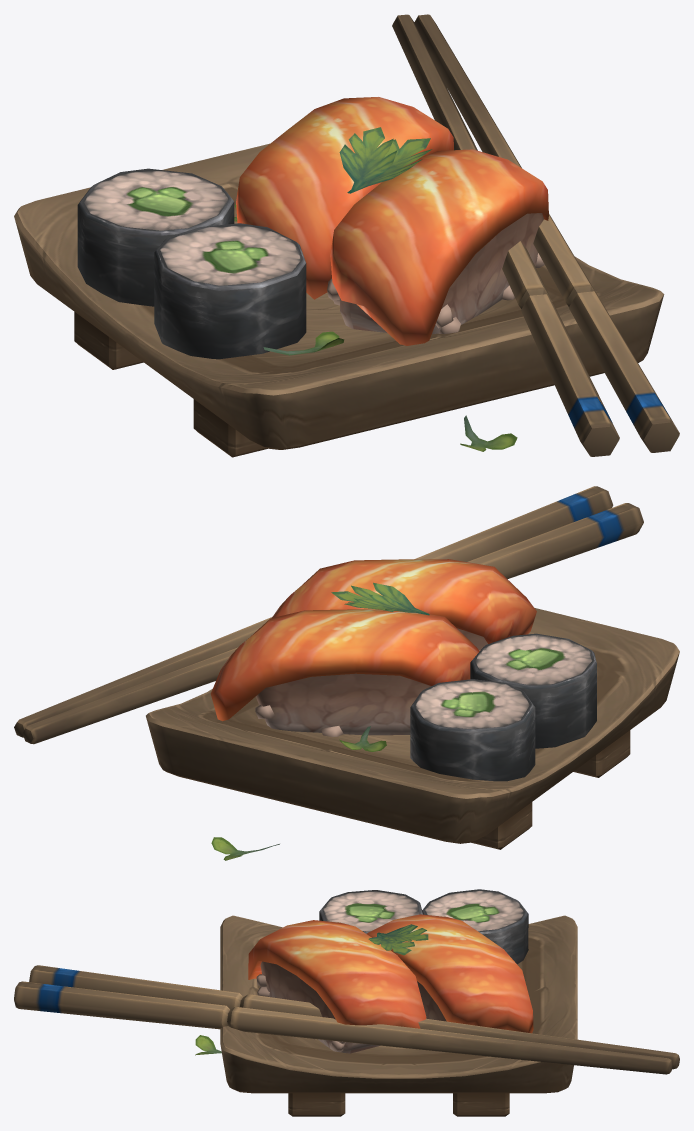
File: All.fbx
The picture shows the model from 3 angles, top to bottom: view 1: azimuth 30°, elevation 25°; view 2: azimuth 150°, elevation 25°; view 3: azimuth 270°, elevation 25°; orthographic projection. The views are drawn at different scales.
Visible parts, largest first — view 1: SF_Box005, Nigiri_Sake001, SF_Chopstick, Maki_002, Nigiri_Sake, Maki_01, Leaf_003, Leaf_02, SF_Leaf_013; view 2: SF_Box005, Nigiri_Sake, SF_Chopstick, Nigiri_Sake001, Maki_01, Maki_002, Leaf_02, Leaf_003; view 3: SF_Box005, SF_Chopstick, Nigiri_Sake001, Nigiri_Sake, Maki_01, Maki_002, Leaf_003, Leaf_02.
Part boxes in pixels (left/top/right/bottom): SF_Box005: left=14, top=143, right=664, bottom=457; Nigiri_Sake001: left=327, top=149, right=548, bottom=345; SF_Chopstick: left=392, top=14, right=679, bottom=456; Maki_002: left=154, top=223, right=306, bottom=359; Nigiri_Sake: left=236, top=97, right=453, bottom=299; Maki_01: left=77, top=168, right=234, bottom=306; Leaf_003: left=339, top=127, right=397, bottom=191; Leaf_02: left=347, top=138, right=432, bottom=193; SF_Leaf_013: left=460, top=415, right=517, bottom=451; SF_Box005: left=146, top=608, right=679, bottom=849; Nigiri_Sake: left=210, top=609, right=479, bottom=737; SF_Chopstick: left=14, top=486, right=643, bottom=744; Nigiri_Sake001: left=272, top=559, right=536, bottom=650; Maki_01: left=410, top=679, right=535, bottom=781; Maki_002: left=470, top=633, right=596, bottom=748; Leaf_02: left=331, top=582, right=429, bottom=615; Leaf_003: left=344, top=594, right=426, bottom=613; SF_Box005: left=220, top=915, right=577, bottom=1116; SF_Chopstick: left=14, top=965, right=679, bottom=1074; Nigiri_Sake001: left=248, top=920, right=426, bottom=1053; Nigiri_Sake: left=367, top=914, right=533, bottom=1033; Maki_01: left=422, top=889, right=528, bottom=964; Maki_002: left=319, top=890, right=422, bottom=933; Leaf_003: left=378, top=924, right=428, bottom=941; Leaf_02: left=368, top=932, right=414, bottom=955.
Bounding box in the file's own units: 107 × 40.83 × 180.
